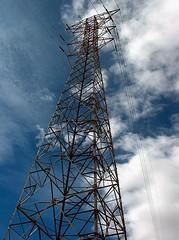power_tower: (11, 7, 143, 240)
